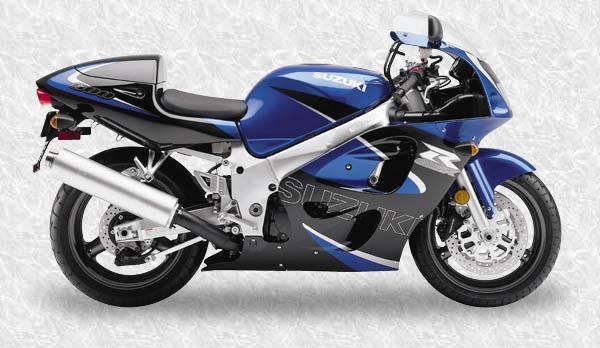motorcycle: (27, 5, 570, 325)
